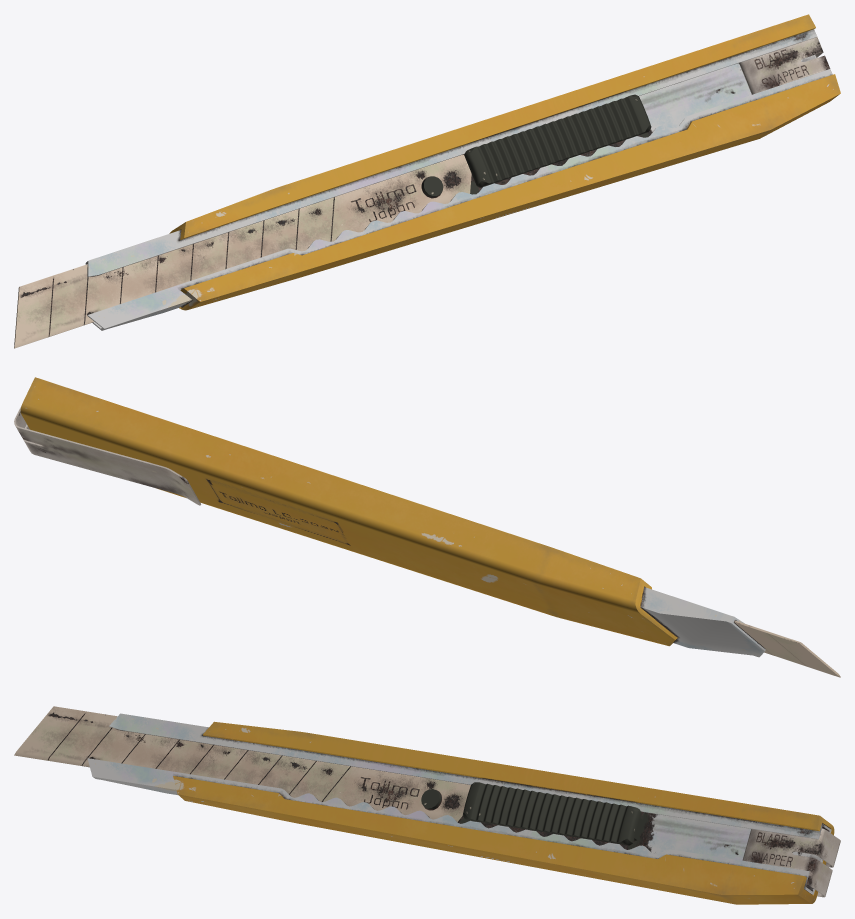
File: tool_tajima_cutter.glb
3 renders of one model, top to bottom at view 1: azimuth 30°, elevation 25°; view 2: azimuth 150°, elevation 25°; view 3: azimuth 330°, elevation 25°, orthographic. The views are drawn at different scales.
Parts seen in each view (by area): view 1: body_low, blade_low, inside_Metal_low, slider_low, clip_low; view 2: body_low, clip_low, inside_Metal_low, blade_low; view 3: body_low, blade_low, inside_Metal_low, slider_low, clip_low.
Boxes of the visible parts, x1,y1,x2,y2 form: body_low: [169, 14, 840, 310]; blade_low: [14, 154, 471, 348]; inside_Metal_low: [85, 29, 832, 330]; slider_low: [421, 94, 651, 198]; clip_low: [739, 34, 830, 94]; body_low: [20, 377, 677, 646]; clip_low: [14, 406, 200, 505]; inside_Metal_low: [640, 587, 765, 657]; blade_low: [734, 620, 840, 677]; body_low: [173, 721, 834, 904]; blade_low: [14, 706, 470, 822]; inside_Metal_low: [87, 713, 831, 894]; slider_low: [421, 782, 650, 849]; clip_low: [742, 828, 840, 897].
Bounding box in the file's own units: 1.82 × 0.2751 × 0.1879.
1 material, 1 textured.
